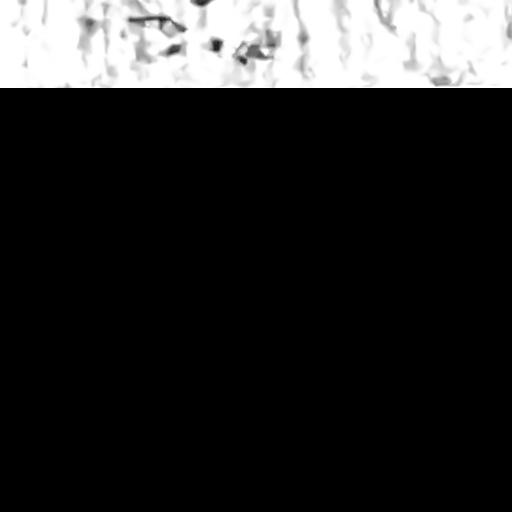egg: (128, 13, 187, 37), (160, 43, 182, 56), (210, 38, 222, 52)
